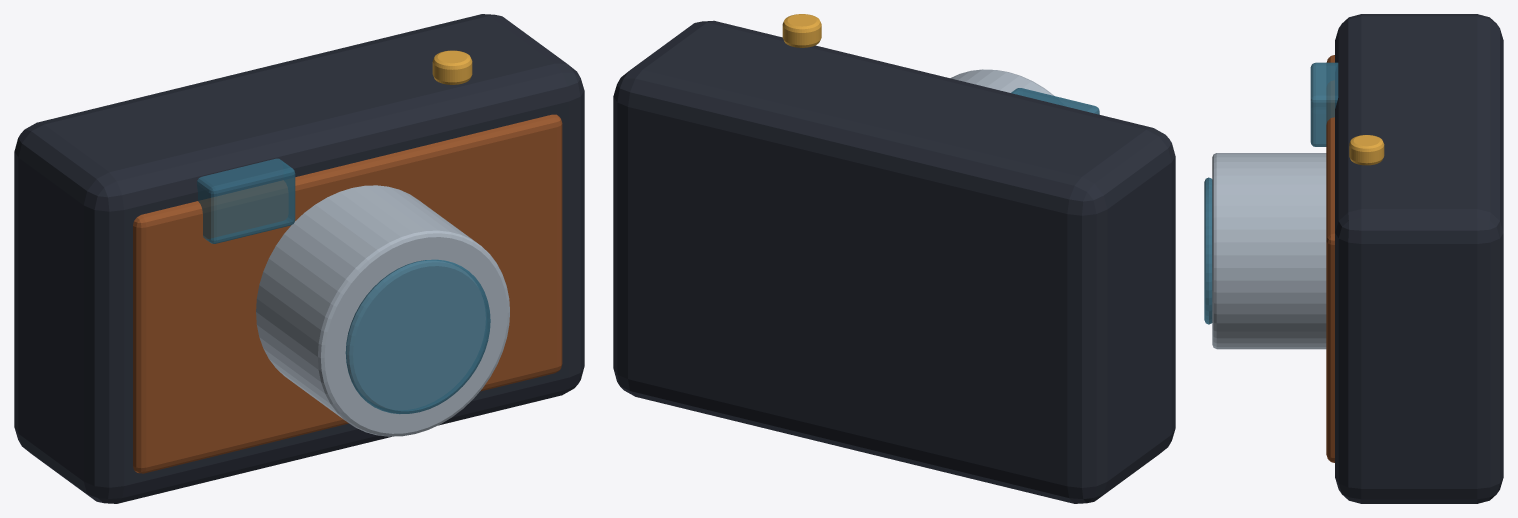
Rendered from appareil-argentique.glb.
3 renders of one model, left to right at view 1: azimuth 30°, elevation 25°; view 2: azimuth 150°, elevation 25°; view 3: azimuth 270°, elevation 25°, orthographic. The views are drawn at different scales.
Visible parts, largest first — view 1: Corps, Gainage, Objectif, Lentille, Viseur, Declencheur; view 2: Corps, Objectif, Declencheur, Viseur; view 3: Corps, Objectif, Gainage, Viseur, Lentille, Declencheur.
Part boxes in pixels (x1,y1,x2,y2): Corps: [14, 14, 584, 503]; Gainage: [133, 114, 562, 473]; Objectif: [256, 185, 509, 436]; Lentille: [345, 259, 490, 414]; Viseur: [197, 158, 295, 243]; Declencheur: [432, 50, 472, 84]; Corps: [613, 20, 1175, 503]; Objectif: [950, 69, 1054, 95]; Declencheur: [782, 14, 821, 47]; Viseur: [1011, 88, 1099, 114]; Corps: [1335, 14, 1503, 503]; Objectif: [1212, 153, 1326, 349]; Gainage: [1326, 55, 1334, 462]; Viseur: [1310, 62, 1338, 146]; Lentille: [1204, 177, 1212, 324]; Declencheur: [1349, 135, 1384, 165].
Size of the model in its own units: 2.9 by 2 by 1.71.
